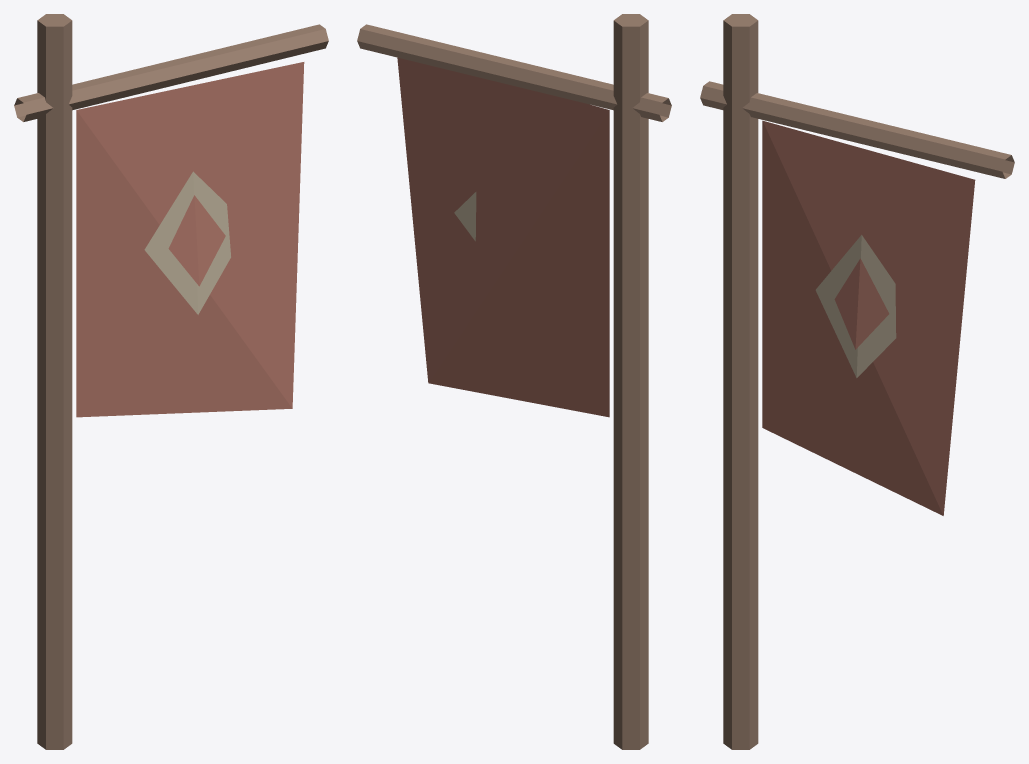
3 views of the same model, side by side, from view 1: azimuth 30°, elevation 25°; view 2: azimuth 150°, elevation 25°; view 3: azimuth 330°, elevation 25° (orthographic).
Parts seen in each view (by area): view 1: P02; view 2: P02; view 3: P02.
Part boxes in pixels (x1=…): P02: x1=14, y1=14, x2=328, y2=749; P02: x1=357, y1=14, x2=671, y2=749; P02: x1=700, y1=14, x2=1014, y2=749.
Size of the model in its own units: 0.7 by 1.6 by 0.105.
